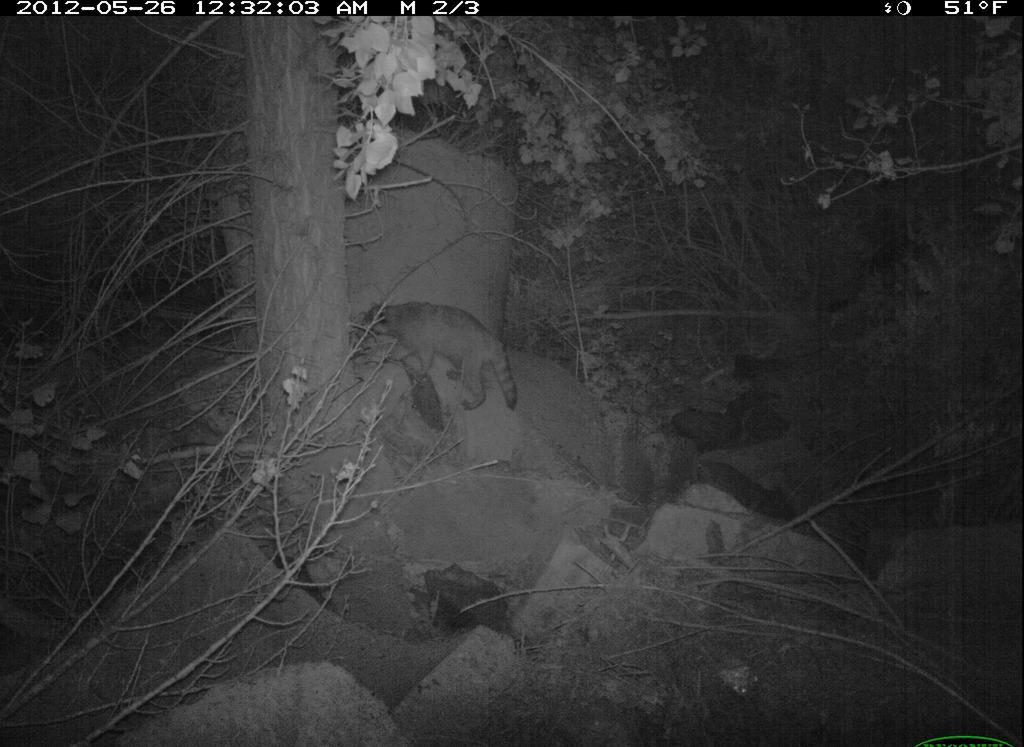raccoon: (356, 292, 523, 414)
